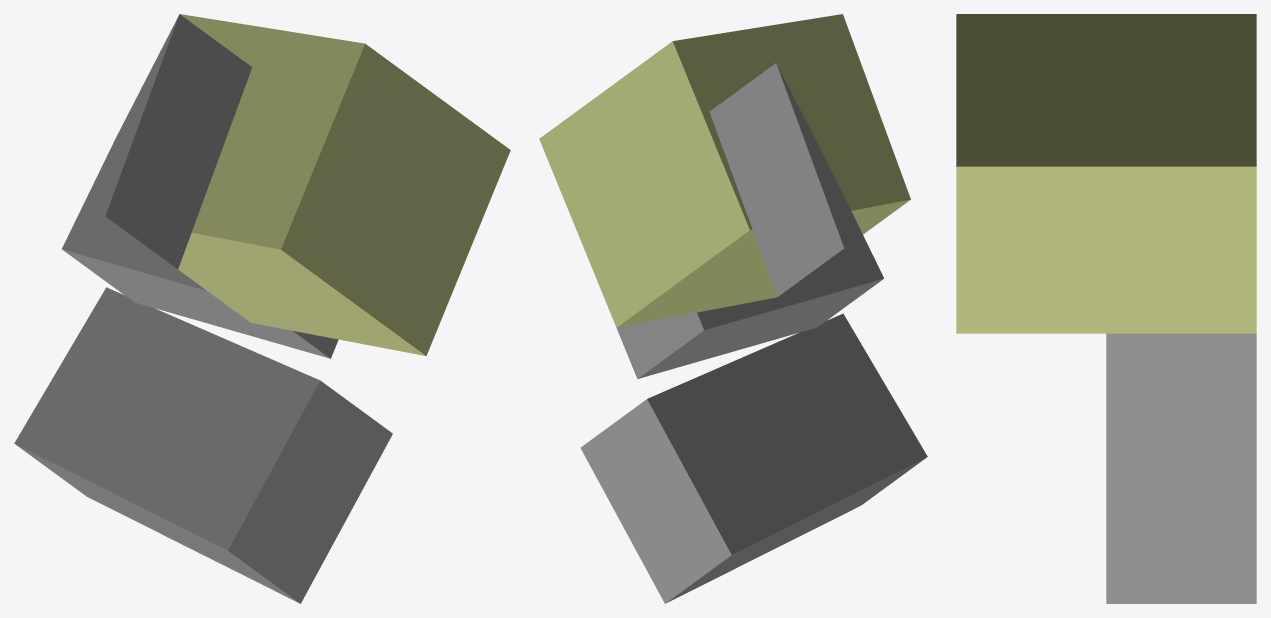
3 renders of one model, left to right at view 1: azimuth 30°, elevation 25°; view 2: azimuth 150°, elevation 25°; view 3: azimuth 270°, elevation 25°, orthographic. The views are drawn at different scales.
Parts seen in each view (by area): view 1: 0_1_2_0_1_1_0_0_0_0_2; view 2: 0_1_2_0_1_1_0_0_0_0_2; view 3: 0_1_2_0_1_1_0_0_0_0_2.
Part boxes in pixels (<box>): 0_1_2_0_1_1_0_0_0_0_2: <box>14,14,510,603</box>; 0_1_2_0_1_1_0_0_0_0_2: <box>539,14,927,603</box>; 0_1_2_0_1_1_0_0_0_0_2: <box>956,14,1256,603</box>.
Bounding box in the file's own units: 8.35 × 12.48 × 6.
